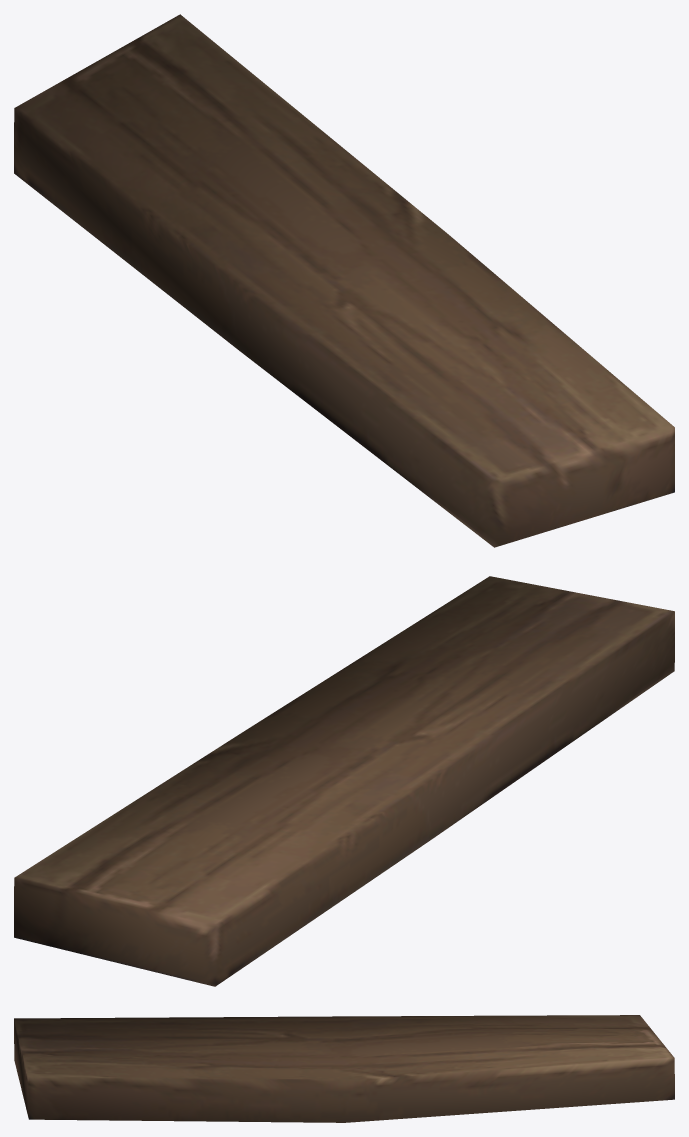
File: yw_shanlin_plank_003.FBX
The picture shows the model from 3 angles, top to bottom: view 1: azimuth 30°, elevation 25°; view 2: azimuth 150°, elevation 25°; view 3: azimuth 270°, elevation 25°; orthographic projection. The views are drawn at different scales.
Visible parts, largest first — view 1: yw_shanlin_plank_003; view 2: yw_shanlin_plank_003; view 3: yw_shanlin_plank_003.
Boxes of the visible parts, x1,y1,x2,y2 form: yw_shanlin_plank_003: [14, 14, 674, 547]; yw_shanlin_plank_003: [14, 576, 674, 986]; yw_shanlin_plank_003: [14, 1015, 674, 1122].
Bounding box in the file's own units: 159 × 670 × 73.48.
